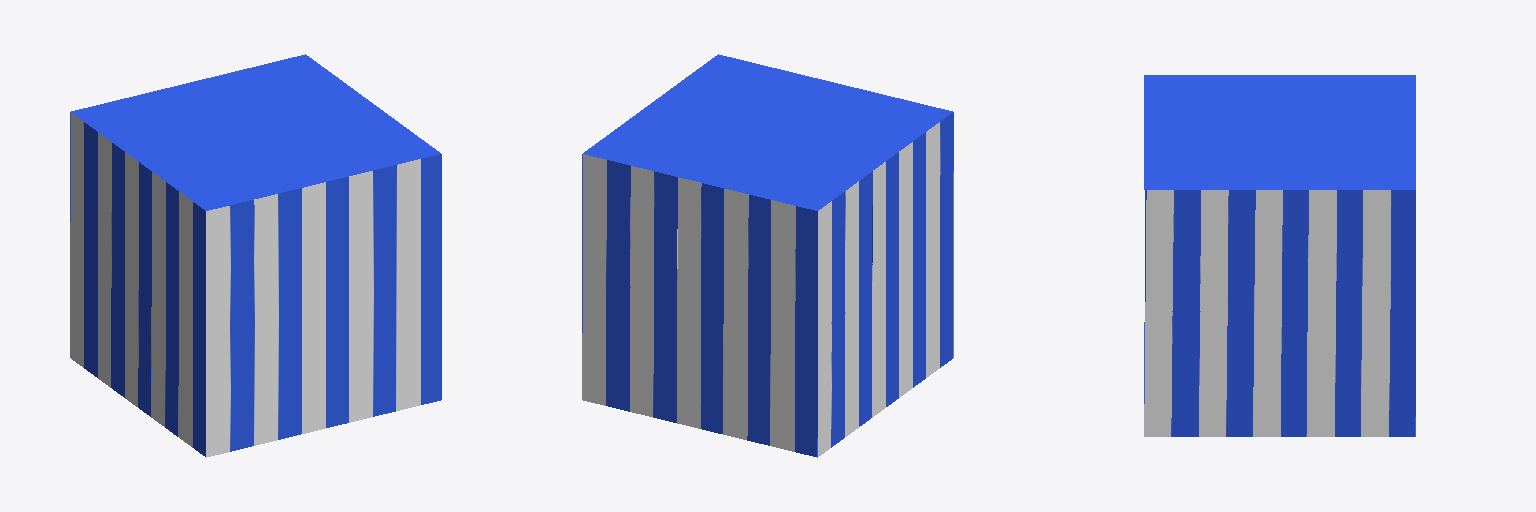
3 renders of one model, left to right at view 1: azimuth 30°, elevation 25°; view 2: azimuth 150°, elevation 25°; view 3: azimuth 270°, elevation 25°, orthographic.
Visible parts, largest first — view 1: 立方体.003; view 2: 立方体.003; view 3: 立方体.003.
Boxes of the visible parts, box(x1,y1,x2,y2) form: 立方体.003: box(70, 54, 441, 457); 立方体.003: box(582, 54, 953, 457); 立方体.003: box(1144, 75, 1415, 436).
Bounding box in the file's own units: 9.83 × 9.83 × 9.83.
1 materials, 1 textured.